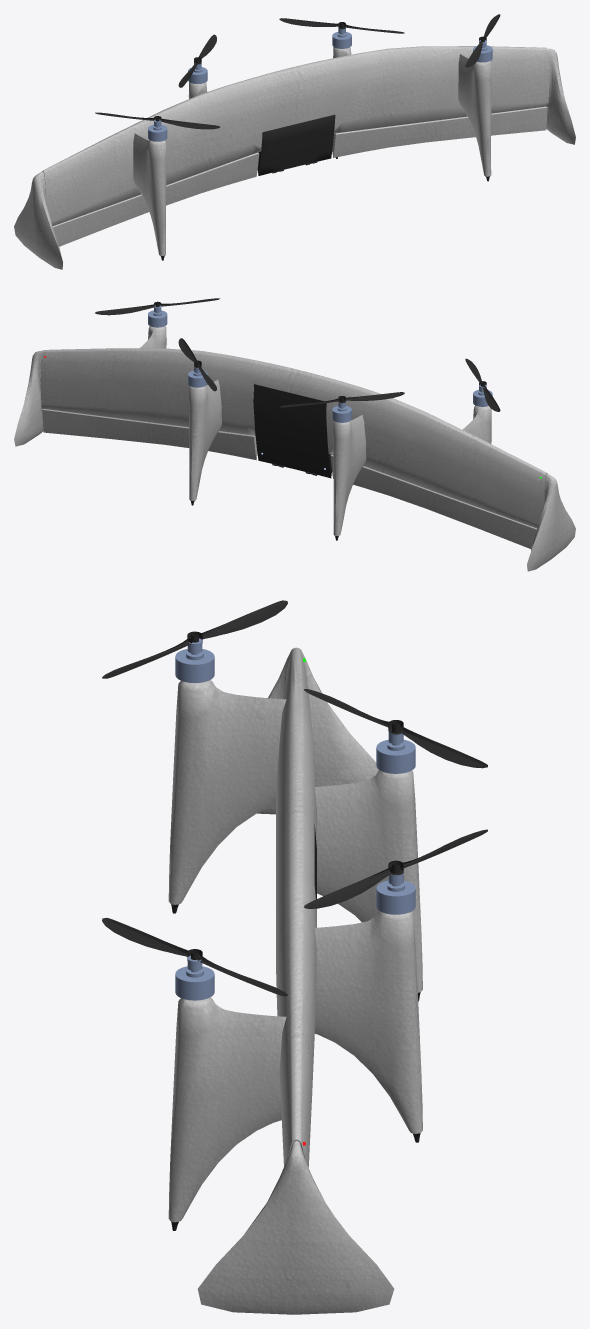
The model's file is HybridUAV.glb.
The picture shows the model from 3 angles, top to bottom: view 1: azimuth 30°, elevation 25°; view 2: azimuth 150°, elevation 25°; view 3: azimuth 270°, elevation 25°; orthographic projection. The views are drawn at different scales.
Visible parts, largest first — view 1: Drone, Drone.006, Drone.005, Drone.004, Drone.002, Drone.001, Drone.003; view 2: Drone, Drone.006, Drone.005, Drone.003, Drone.001, Drone.004, Drone.002; view 3: Drone, Drone.004, Drone.001, Drone.002, Drone.003.
Boxes of the visible parts, left/top/right/bottom form: Drone: left=14, top=46, right=575, bottom=269; Drone.006: left=332, top=106, right=547, bottom=157; Drone.005: left=52, top=152, right=259, bottom=246; Drone.004: left=279, top=18, right=404, bottom=48; Drone.002: left=95, top=112, right=220, bottom=141; Drone.001: left=178, top=34, right=216, bottom=87; Drone.003: left=465, top=14, right=500, bottom=67; Drone: left=14, top=326, right=575, bottom=571; Drone.006: left=42, top=409, right=257, bottom=460; Drone.005: left=330, top=454, right=536, bottom=548; Drone.003: left=95, top=298, right=219, bottom=327; Drone.001: left=279, top=392, right=404, bottom=422; Drone.004: left=178, top=338, right=216, bottom=391; Drone.002: left=465, top=358, right=500, bottom=411; Drone: left=168, top=647, right=422, bottom=1314; Drone.004: left=304, top=829, right=487, bottom=914; Drone.001: left=304, top=689, right=487, bottom=773; Drone.002: left=102, top=600, right=287, bottom=682; Drone.003: left=102, top=918, right=287, bottom=1000.
Size of the model in its own units: 1 by 0.2543 by 0.3195.
Materials: 6 (1 with a texture image).
